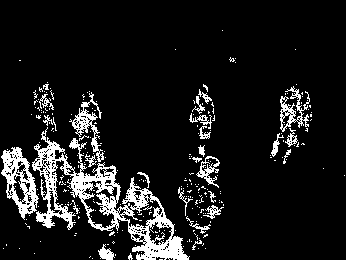person: (74, 164, 121, 258), (179, 154, 224, 249), (32, 133, 75, 230), (120, 171, 168, 243), (2, 145, 39, 220), (186, 82, 222, 148), (71, 96, 103, 163), (285, 93, 312, 164), (268, 83, 294, 156), (33, 83, 60, 135)
